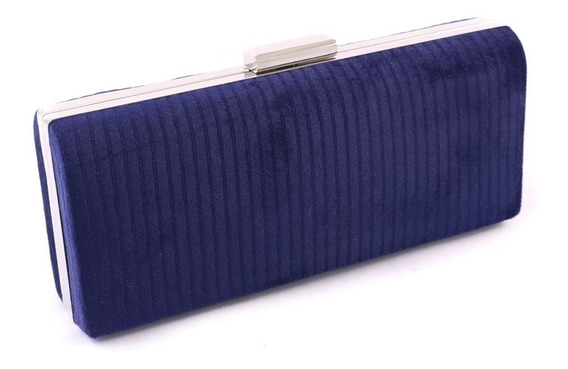cartera: (29, 12, 528, 343)
